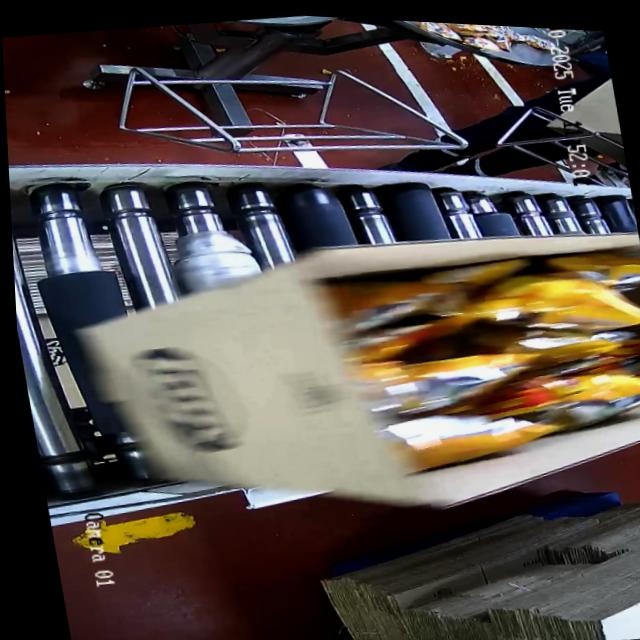FRENCH_CHEESE: (323, 232, 640, 493)
